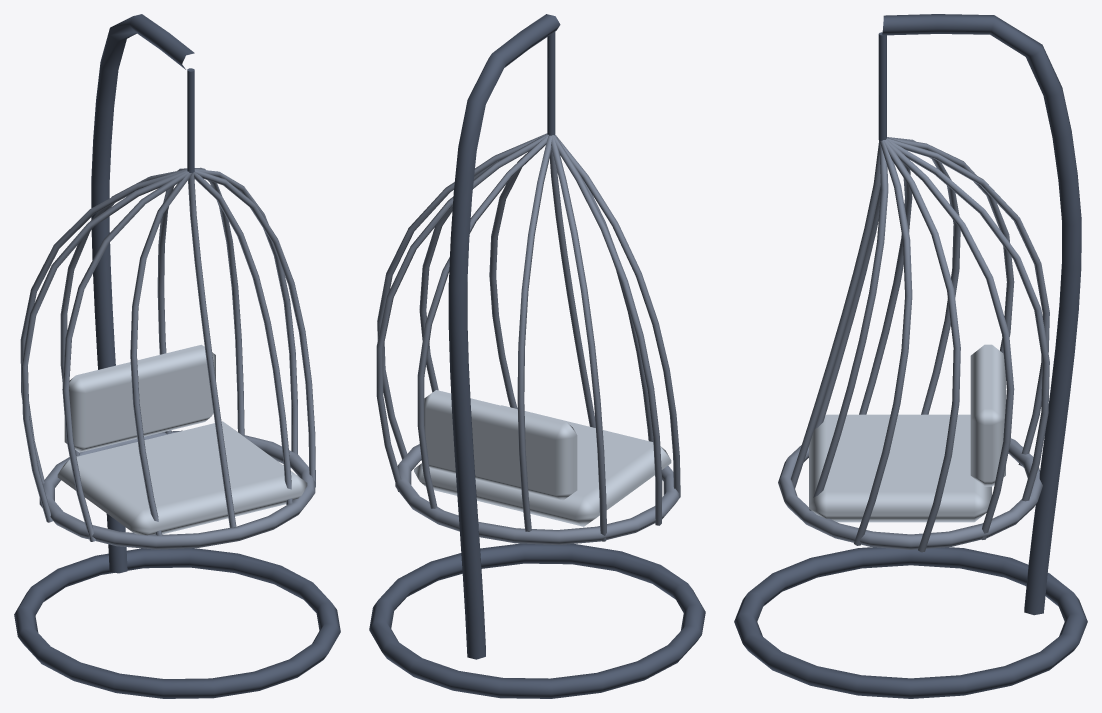
Rendered from garden-hanging-chair.glb.
3 renders of one model, left to right at view 1: azimuth 30°, elevation 25°; view 2: azimuth 150°, elevation 25°; view 3: azimuth 270°, elevation 25°, orthographic. The views are drawn at different scales.
Visible parts, largest first — view 1: garden-hanging-chair; view 2: garden-hanging-chair; view 3: garden-hanging-chair.
Boxes of the visible parts, <box> form: garden-hanging-chair: <box>14,14,340,698</box>; garden-hanging-chair: <box>369,14,705,698</box>; garden-hanging-chair: <box>734,14,1087,698</box>.
Size of the model in its own units: 1.1 by 2.2 by 1.15.
